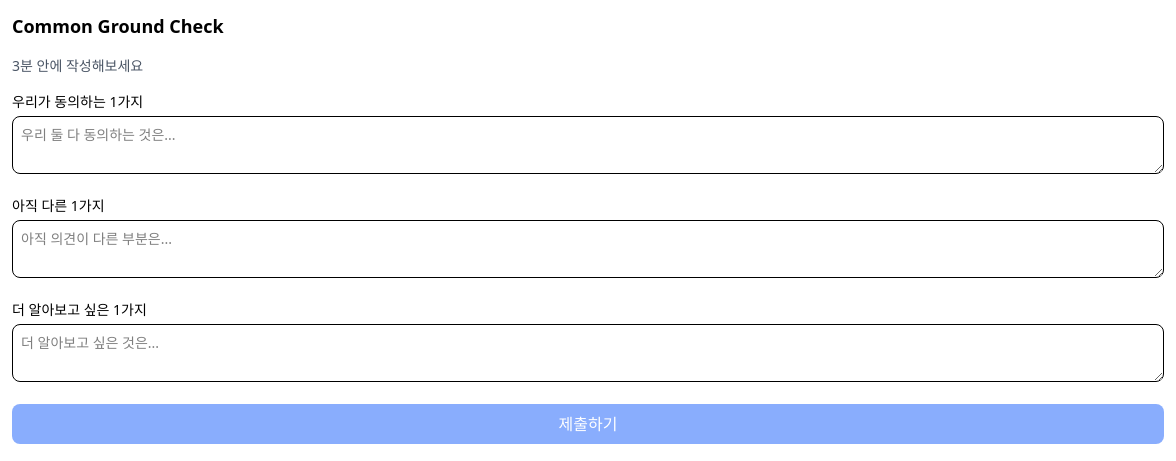
Scenario: CommonGroundForm › enables submit when all fields are filled
Type "fairness" into the text box labelled "우리가 동의하는 1가지".
click(588, 145); type("fairness")  # box [12, 116, 1164, 174]
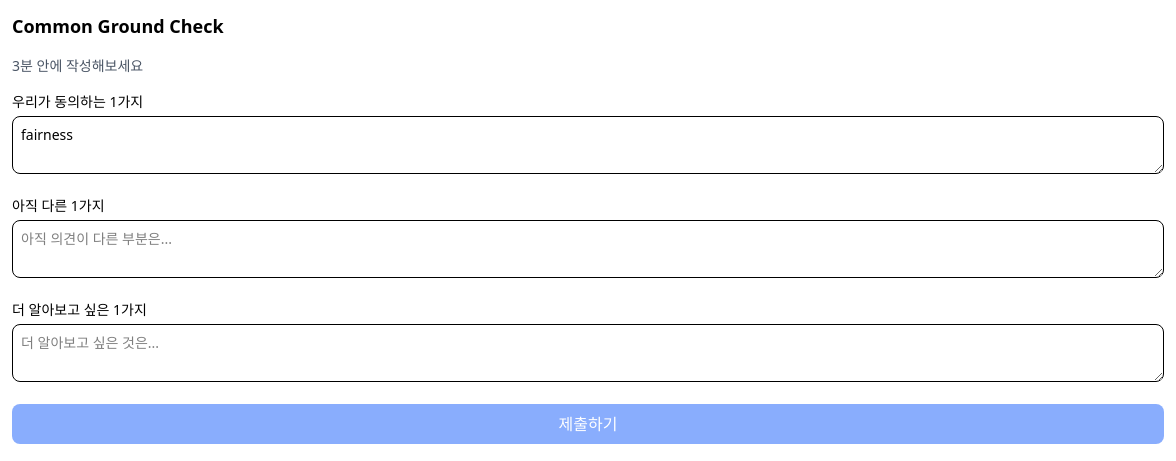
Type "method" into the text box labelled "아직 다른 1가지".
click(588, 249); type("method")  # box [12, 220, 1164, 278]
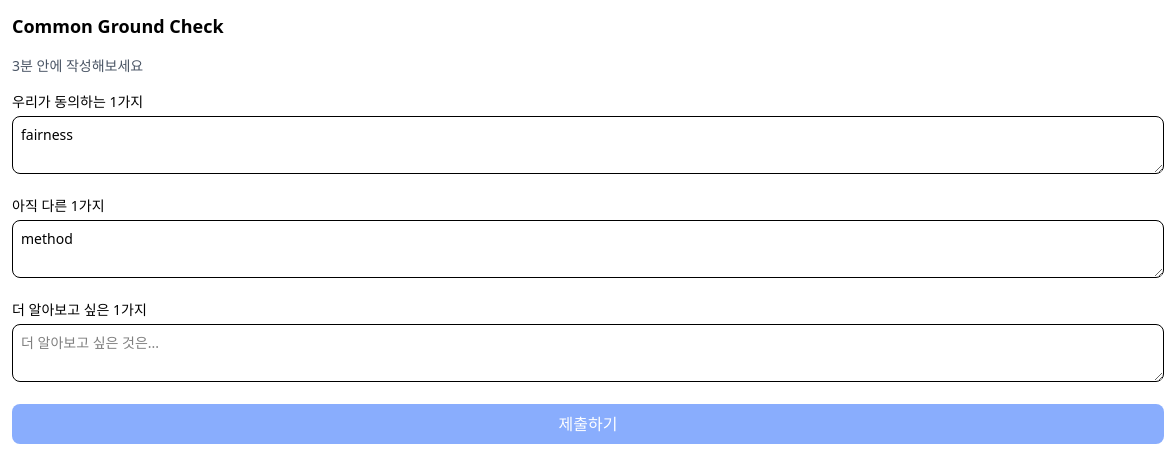
Type "impact" into the text box labelled "더 알아보고 싶은 1가지".
click(588, 353); type("impact")  # box [12, 324, 1164, 382]
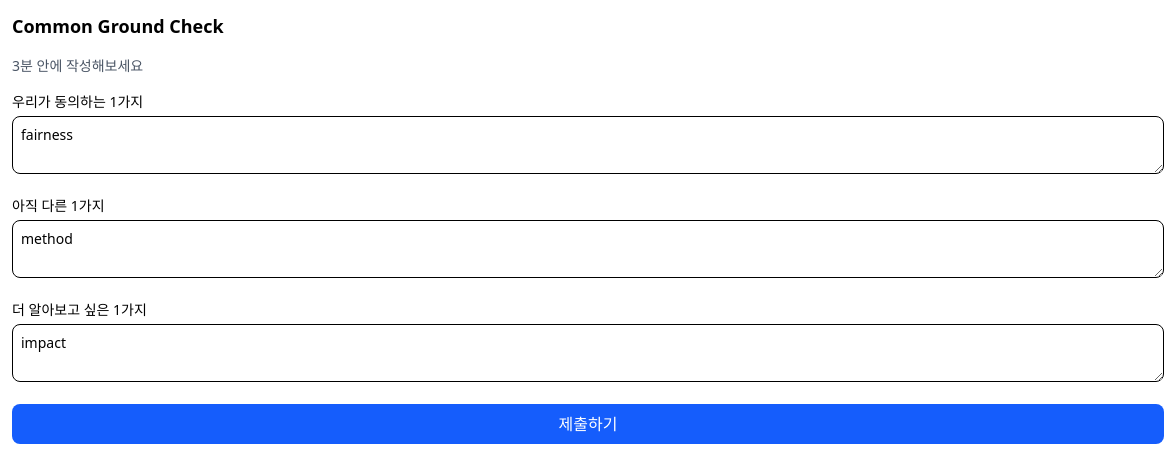
expect the button "제출하기" is enabled: met, box [12, 404, 1164, 444]
